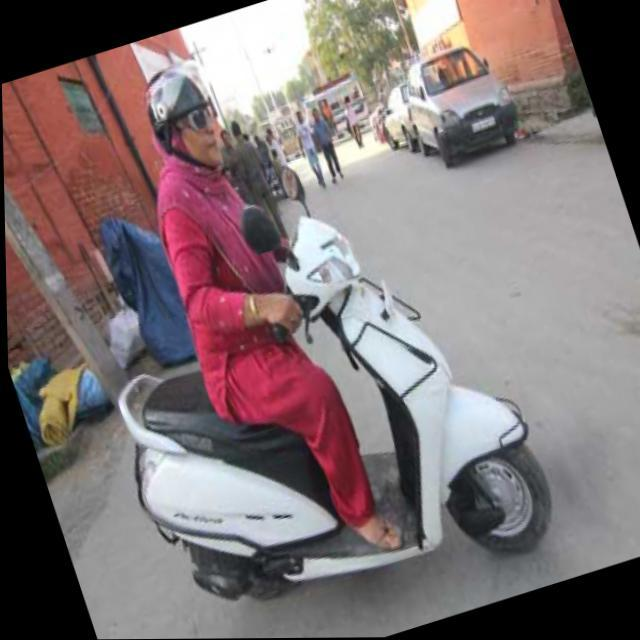Helmet: (136, 62, 229, 172)
